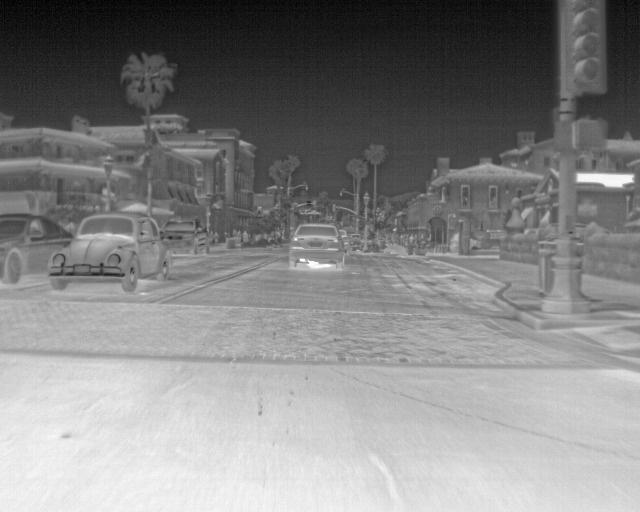bicycle: (47, 209, 167, 290), (1, 209, 72, 284), (289, 223, 348, 268), (158, 217, 211, 257)
